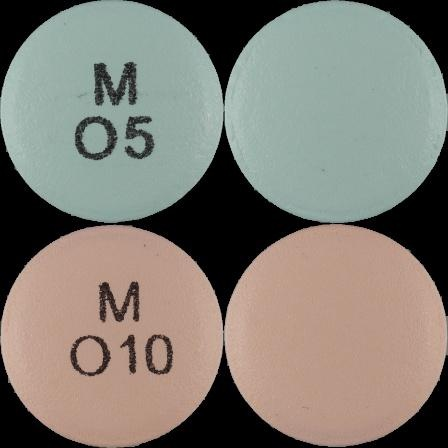69189-6605: (0, 0, 224, 224)
